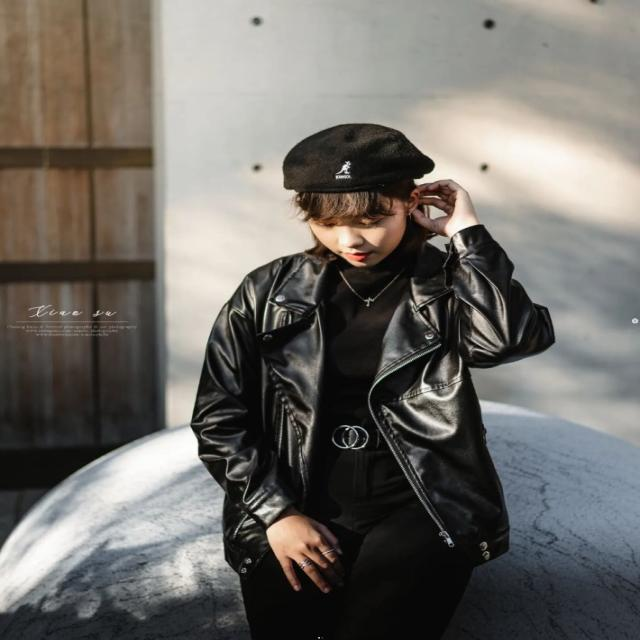illegal_helmet: (273, 116, 439, 273)
